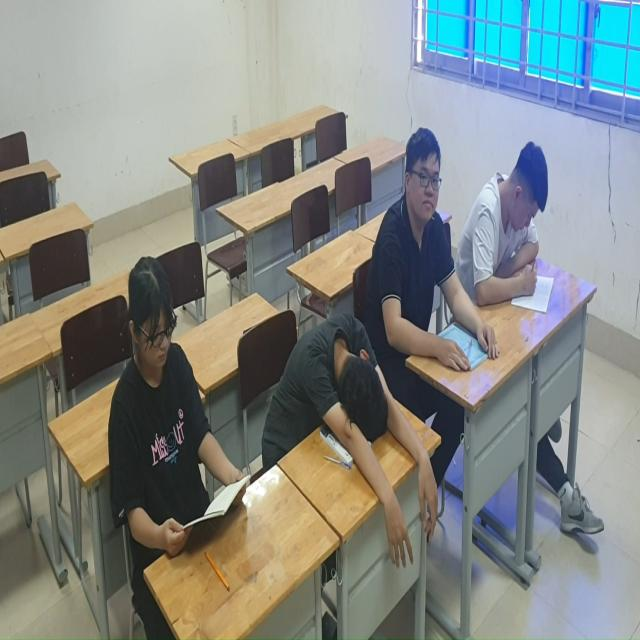read: (108, 253, 255, 565), (466, 138, 565, 329)
sleep: (262, 268, 443, 565)
